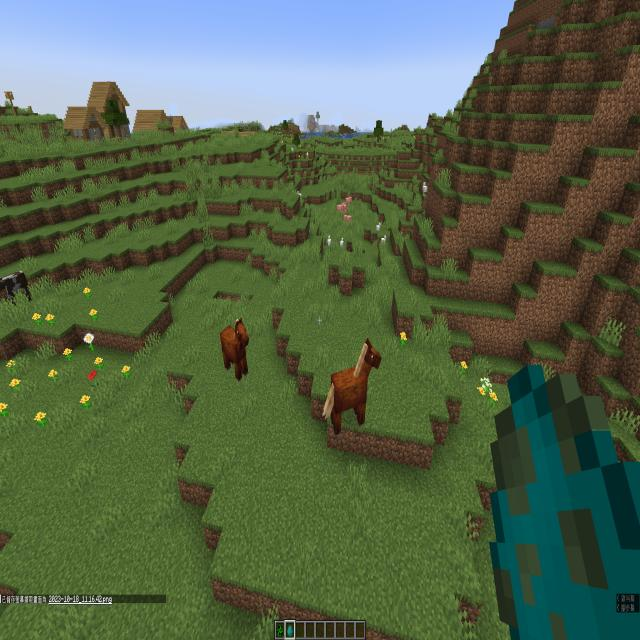chicken: (421, 180, 429, 198), (374, 220, 384, 233), (327, 233, 333, 250), (380, 234, 388, 246), (297, 190, 303, 202), (339, 235, 344, 249)
pig: (341, 214, 354, 224), (342, 199, 348, 216), (336, 202, 344, 214), (344, 196, 353, 206)
